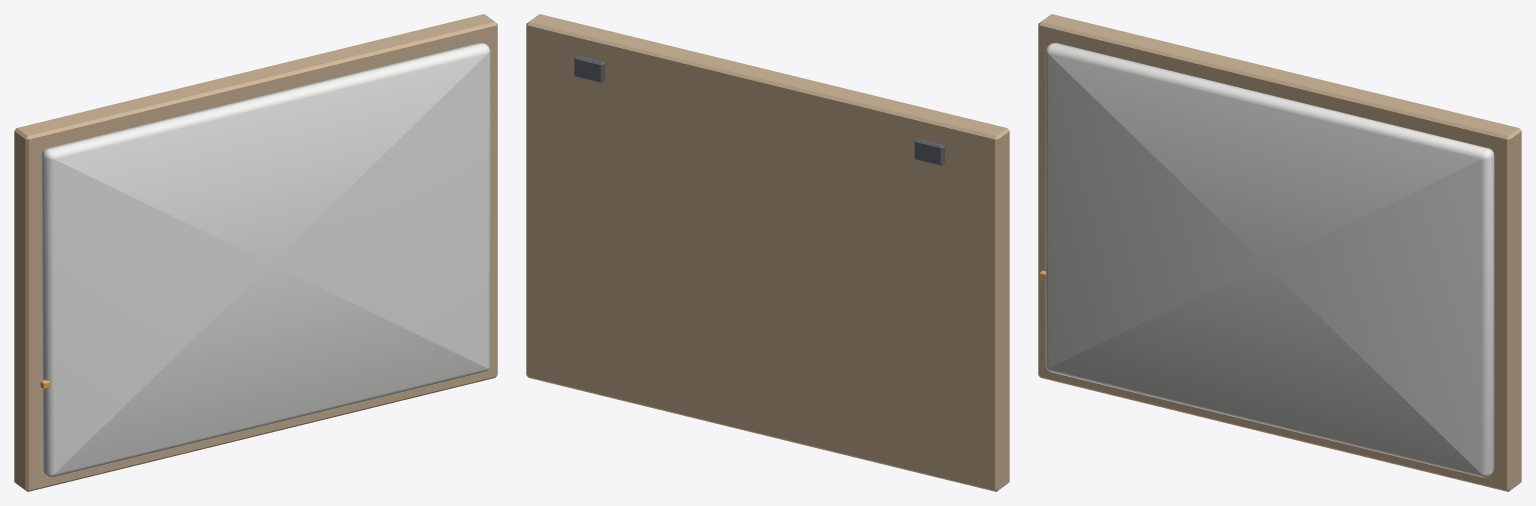
Rendered from office-lobby-and-facilities-wall-artwork-panel-15e516e9__26314.glb.
3 renders of one model, left to right at view 1: azimuth 30°, elevation 25°; view 2: azimuth 150°, elevation 25°; view 3: azimuth 330°, elevation 25°, orthographic.
Parts seen in each view (by area): view 1: wall-artwork-panel; view 2: wall-artwork-panel; view 3: wall-artwork-panel.
Boxes of the visible parts, x1,y1,x2,y2 form: wall-artwork-panel: [14, 14, 497, 491]; wall-artwork-panel: [526, 14, 1009, 491]; wall-artwork-panel: [1038, 14, 1521, 491].
Size of the model in its own units: 1 by 0.7201 by 0.092.
